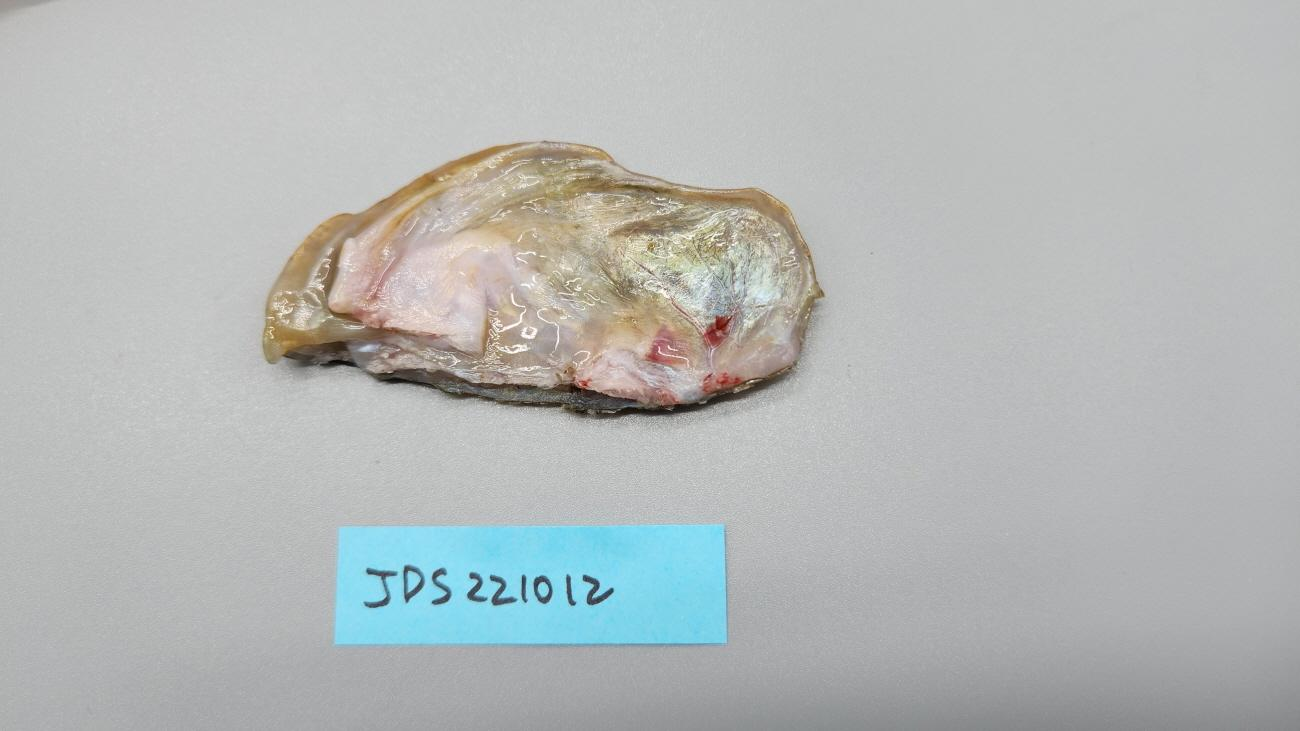POGCN: (264, 141, 824, 416)
